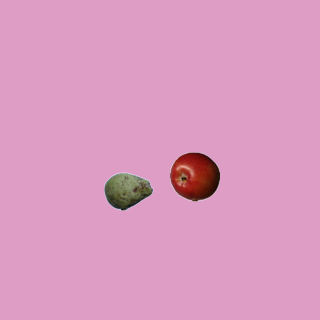Apple Braeburn: (169, 151, 219, 201)
Pear Stone: (103, 166, 153, 216)
